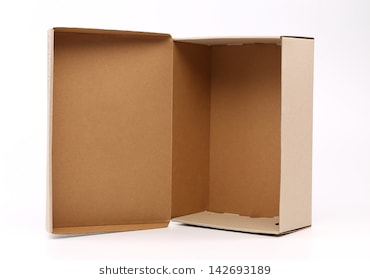Rec_Paper: (16, 15, 331, 248)
